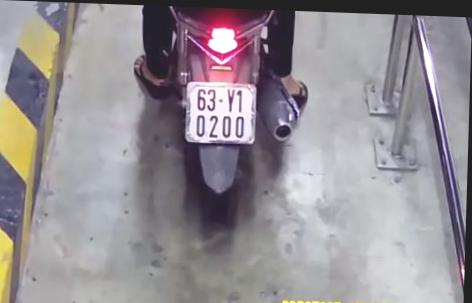License_Plate: (181, 79, 261, 149)
